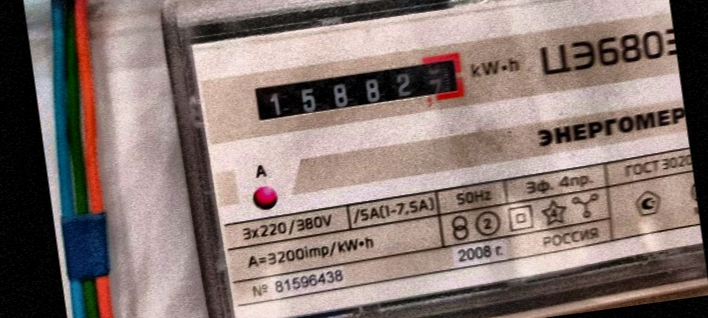1: (266, 88, 283, 119)
2: (392, 71, 412, 99)
5: (297, 85, 318, 117)
7: (426, 76, 441, 95)
8: (361, 76, 381, 106), (329, 81, 348, 111)
screen: (240, 44, 472, 135)
